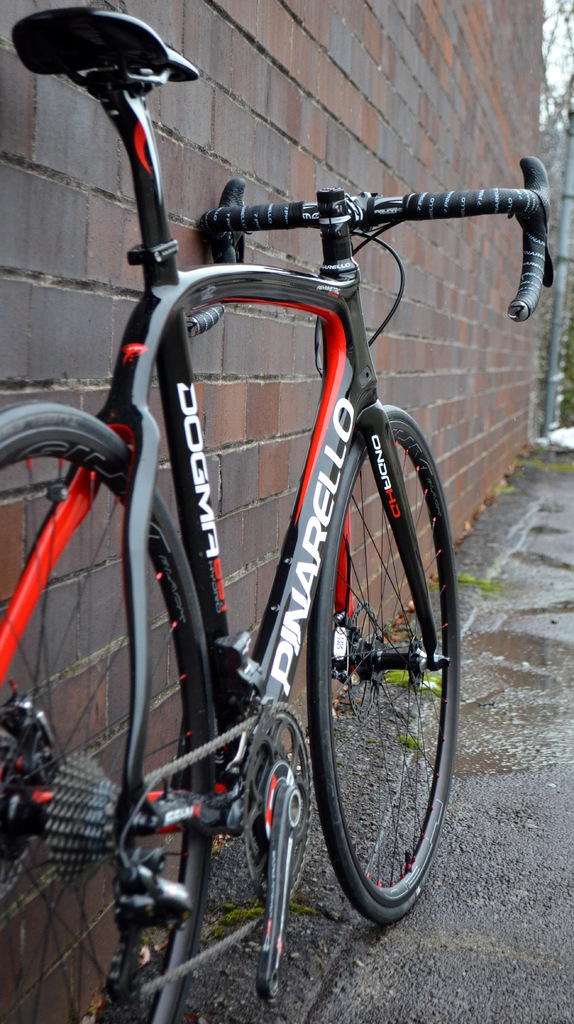Bicycle: (0, 0, 554, 1015)
